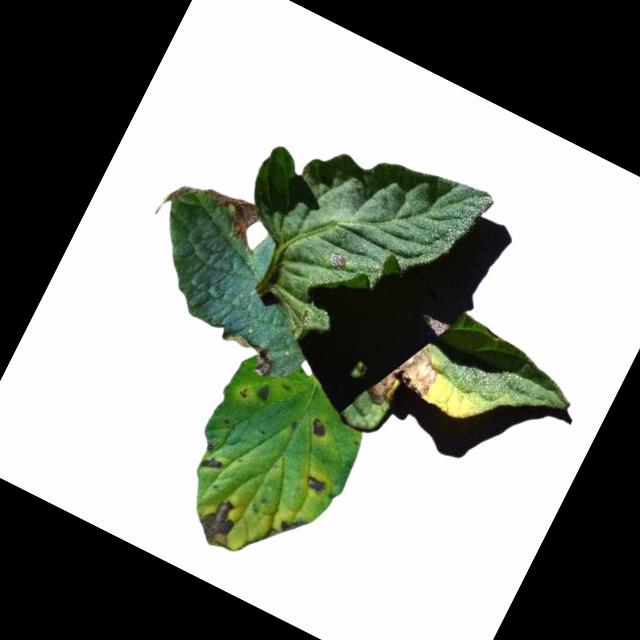Early_blight: (149, 162, 266, 257), (363, 330, 447, 420), (190, 492, 248, 556), (222, 327, 284, 381), (278, 512, 312, 542), (301, 471, 330, 498), (252, 381, 277, 408), (306, 415, 331, 441), (199, 454, 225, 477), (326, 248, 349, 271)
